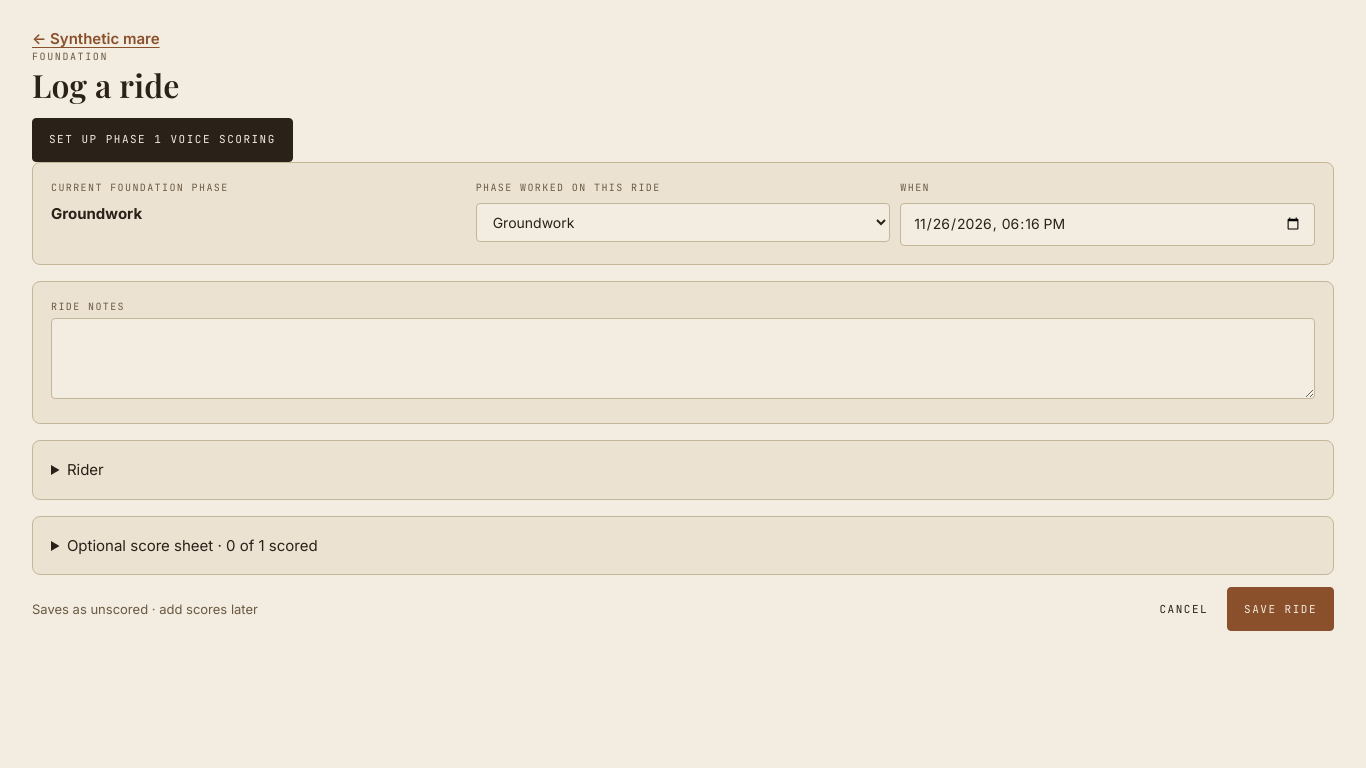
Test: lets a trainer choose Phase 1 for a normal ride and start scoring without treating the phase as an edit
Later steps or results of the test are not shown.
Expected: the dropdown labelled "Phase worked on this ride" shows "Groundwork", 476,203 -> 890,242
Click the button "Set up Phase 1 voice scoring": x=162, y=140 32,118 -> 293,162
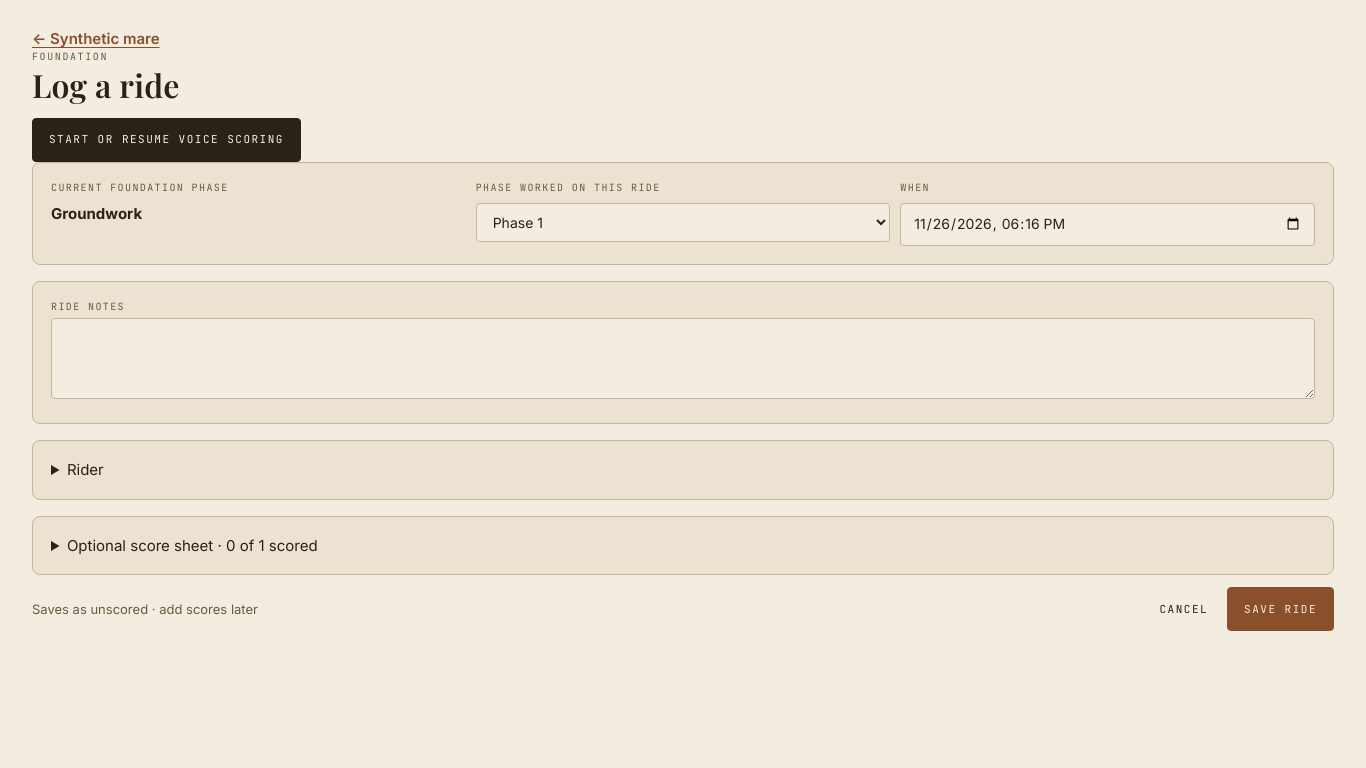
Expected: the element named "Ride-along scoring" reads "Start or resume voice scoring", 32,118 -> 301,162
